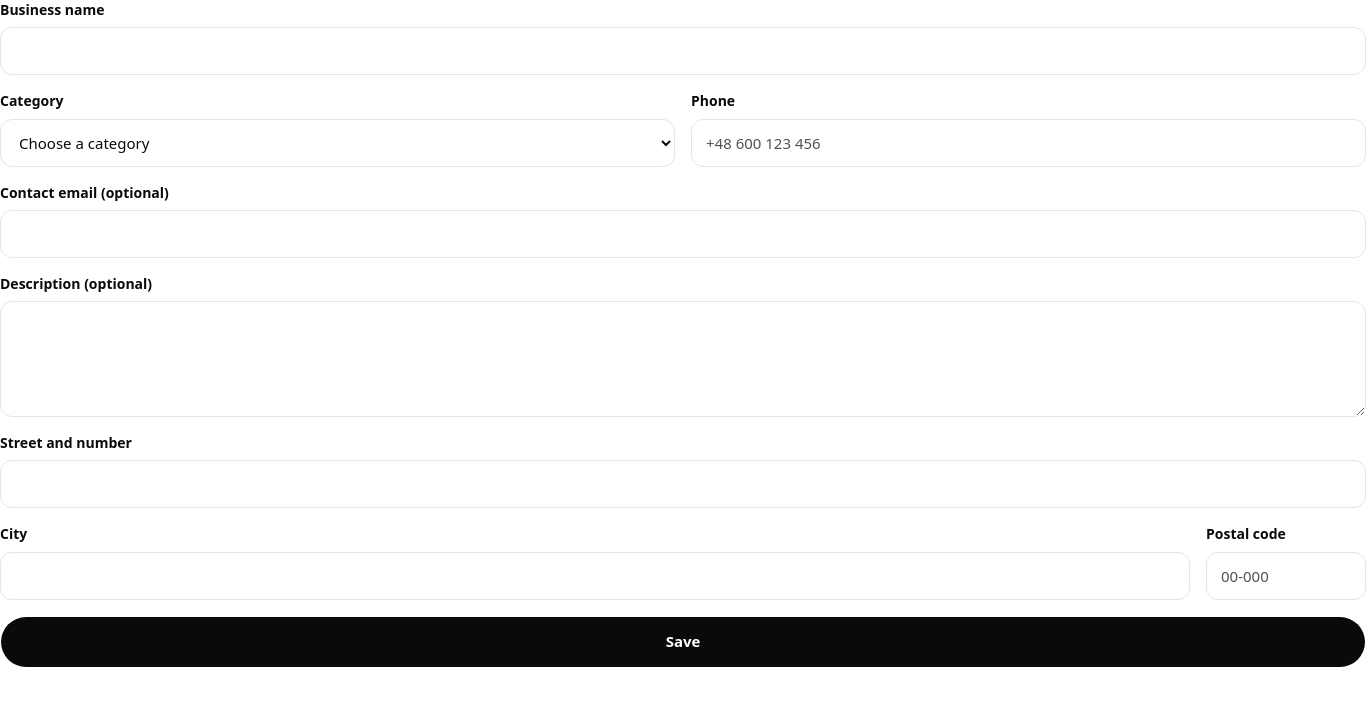
BusinessForm › shows validation messages and does not submit an empty form
The image size is (1366, 728).
Click the button "Save": [683, 642] box [0,616,1365,668]
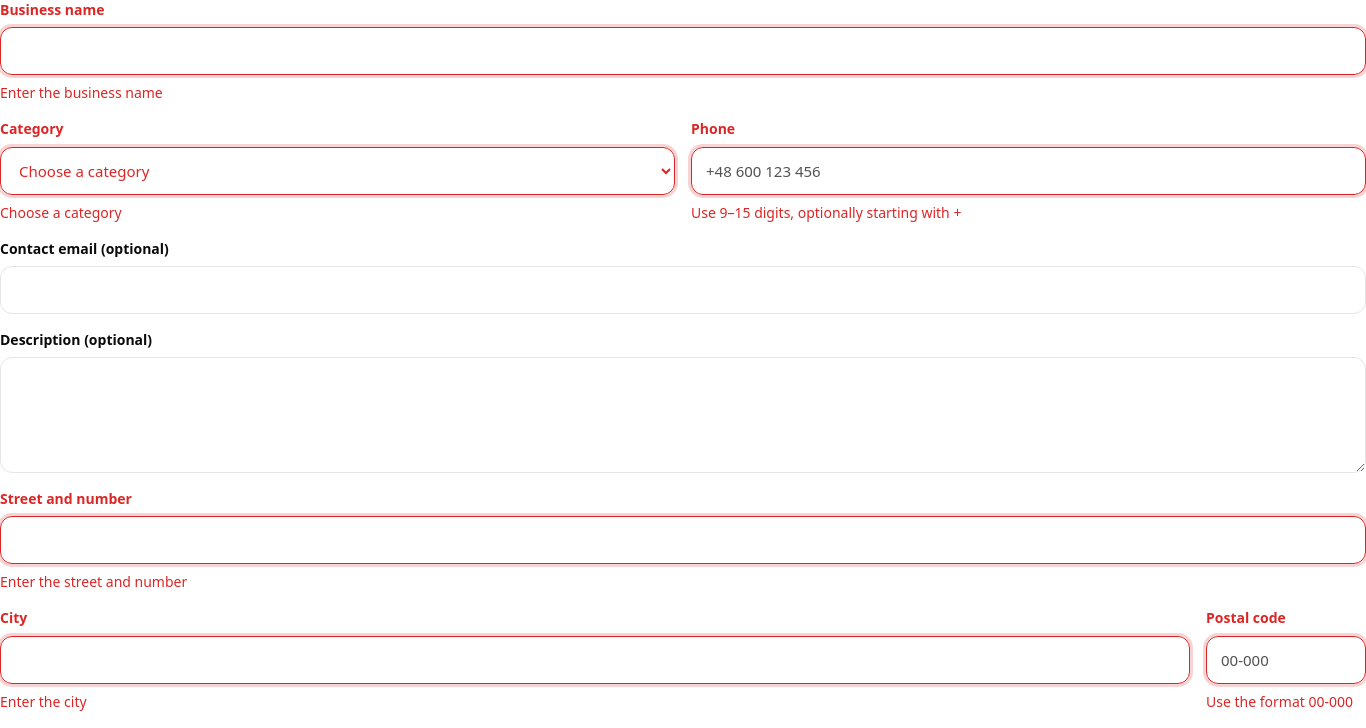
Check: the text "Enter the business name" is shown, box [0,83,163,102]
Check: the text "Choose a category" is shown, box [0,202,122,222]
Check: the text "Use the format 00-000" is shown, box [1206,692,1365,712]
